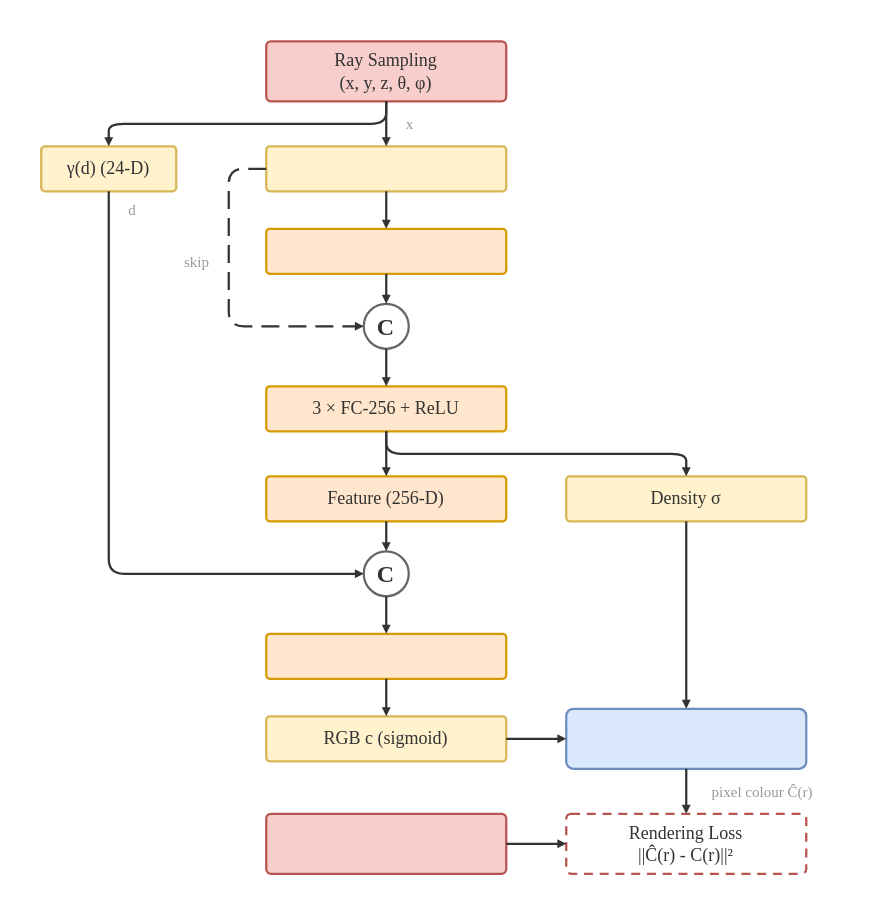
Some shapes in this 870 by 914 pixel diagram are drawn without their labels. Here are the shapes that lost their labels. From the top down, the centre of each, then its label:
the point at 385,168: γ(x) (60-D)
the point at 385,250: 5 × FC-256 + ReLU
the point at 385,655: FC-128 + ReLU
the point at 685,738: Volume Rendering Ĉ(r) = Σ T i α i c i
the point at 385,843: Ground-Truth Pixel C(r)
